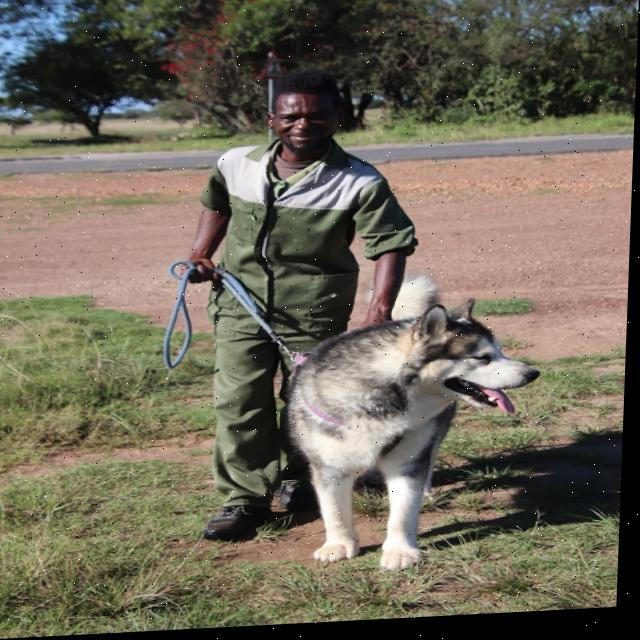ALASKAN_MALAMUTE: (257, 262, 547, 587)
